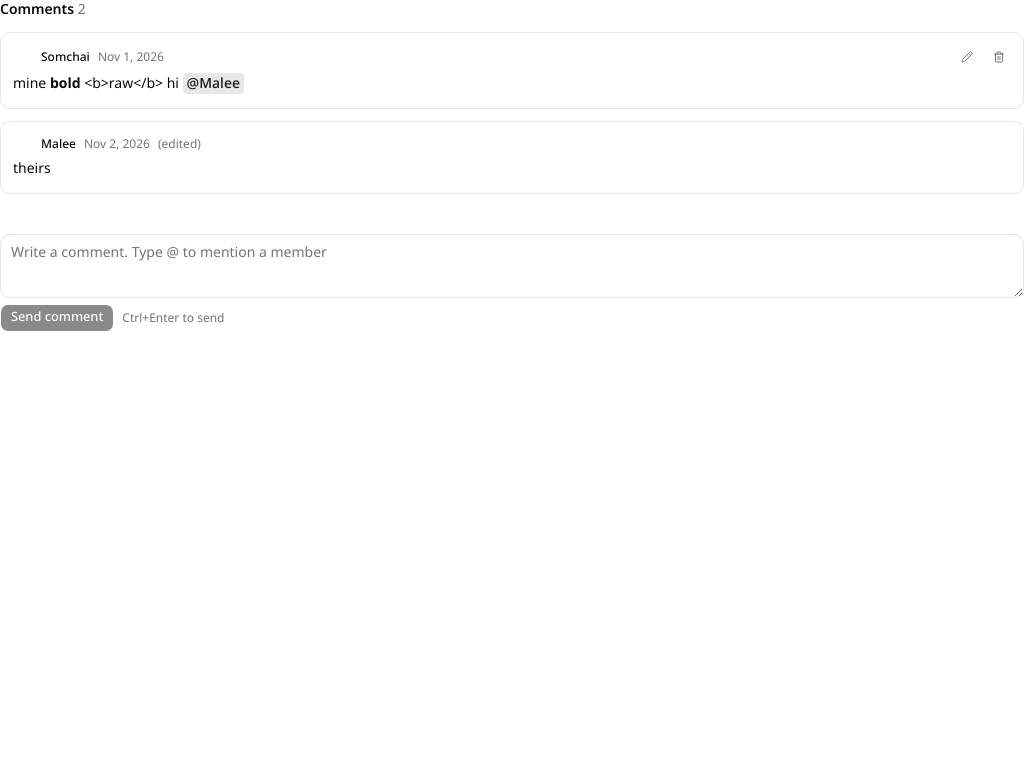
it: Comments › delete asks for confirmation, then removes the comment
Check: the text "mine" is shown, box [13, 73, 50, 94]
Click the button named "Delete comment" at (999, 57), box [987, 45, 1011, 69]
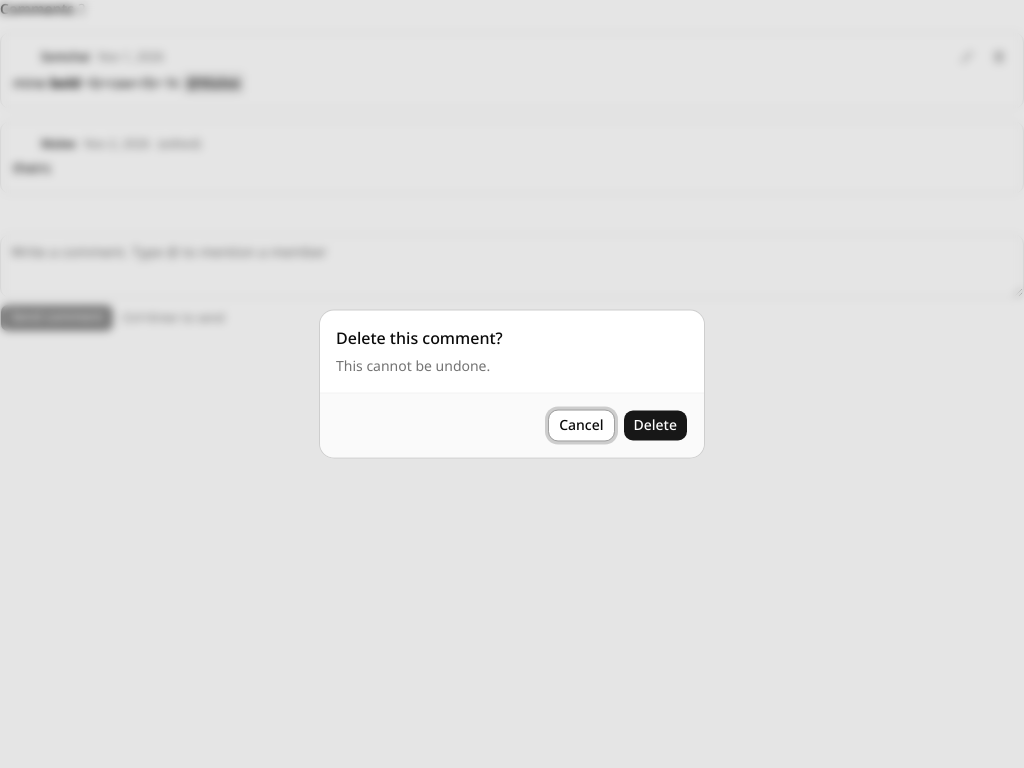
Click the button "Delete" at (655, 426), box [622, 410, 688, 442]
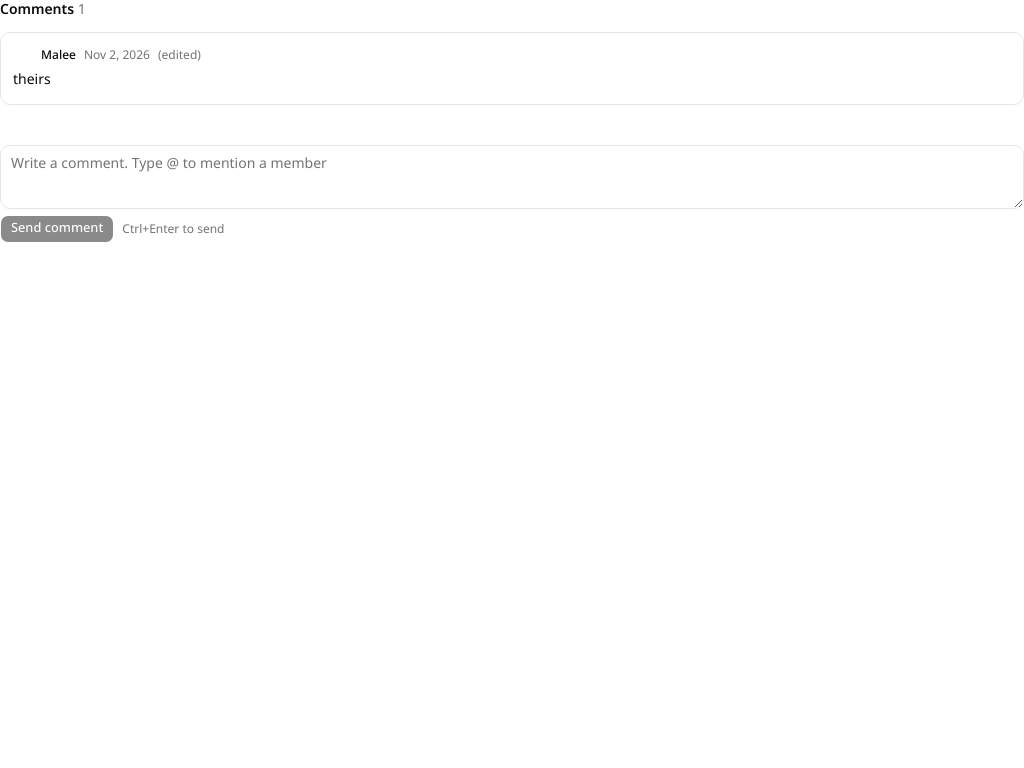
Check: the text "bold" is gone
